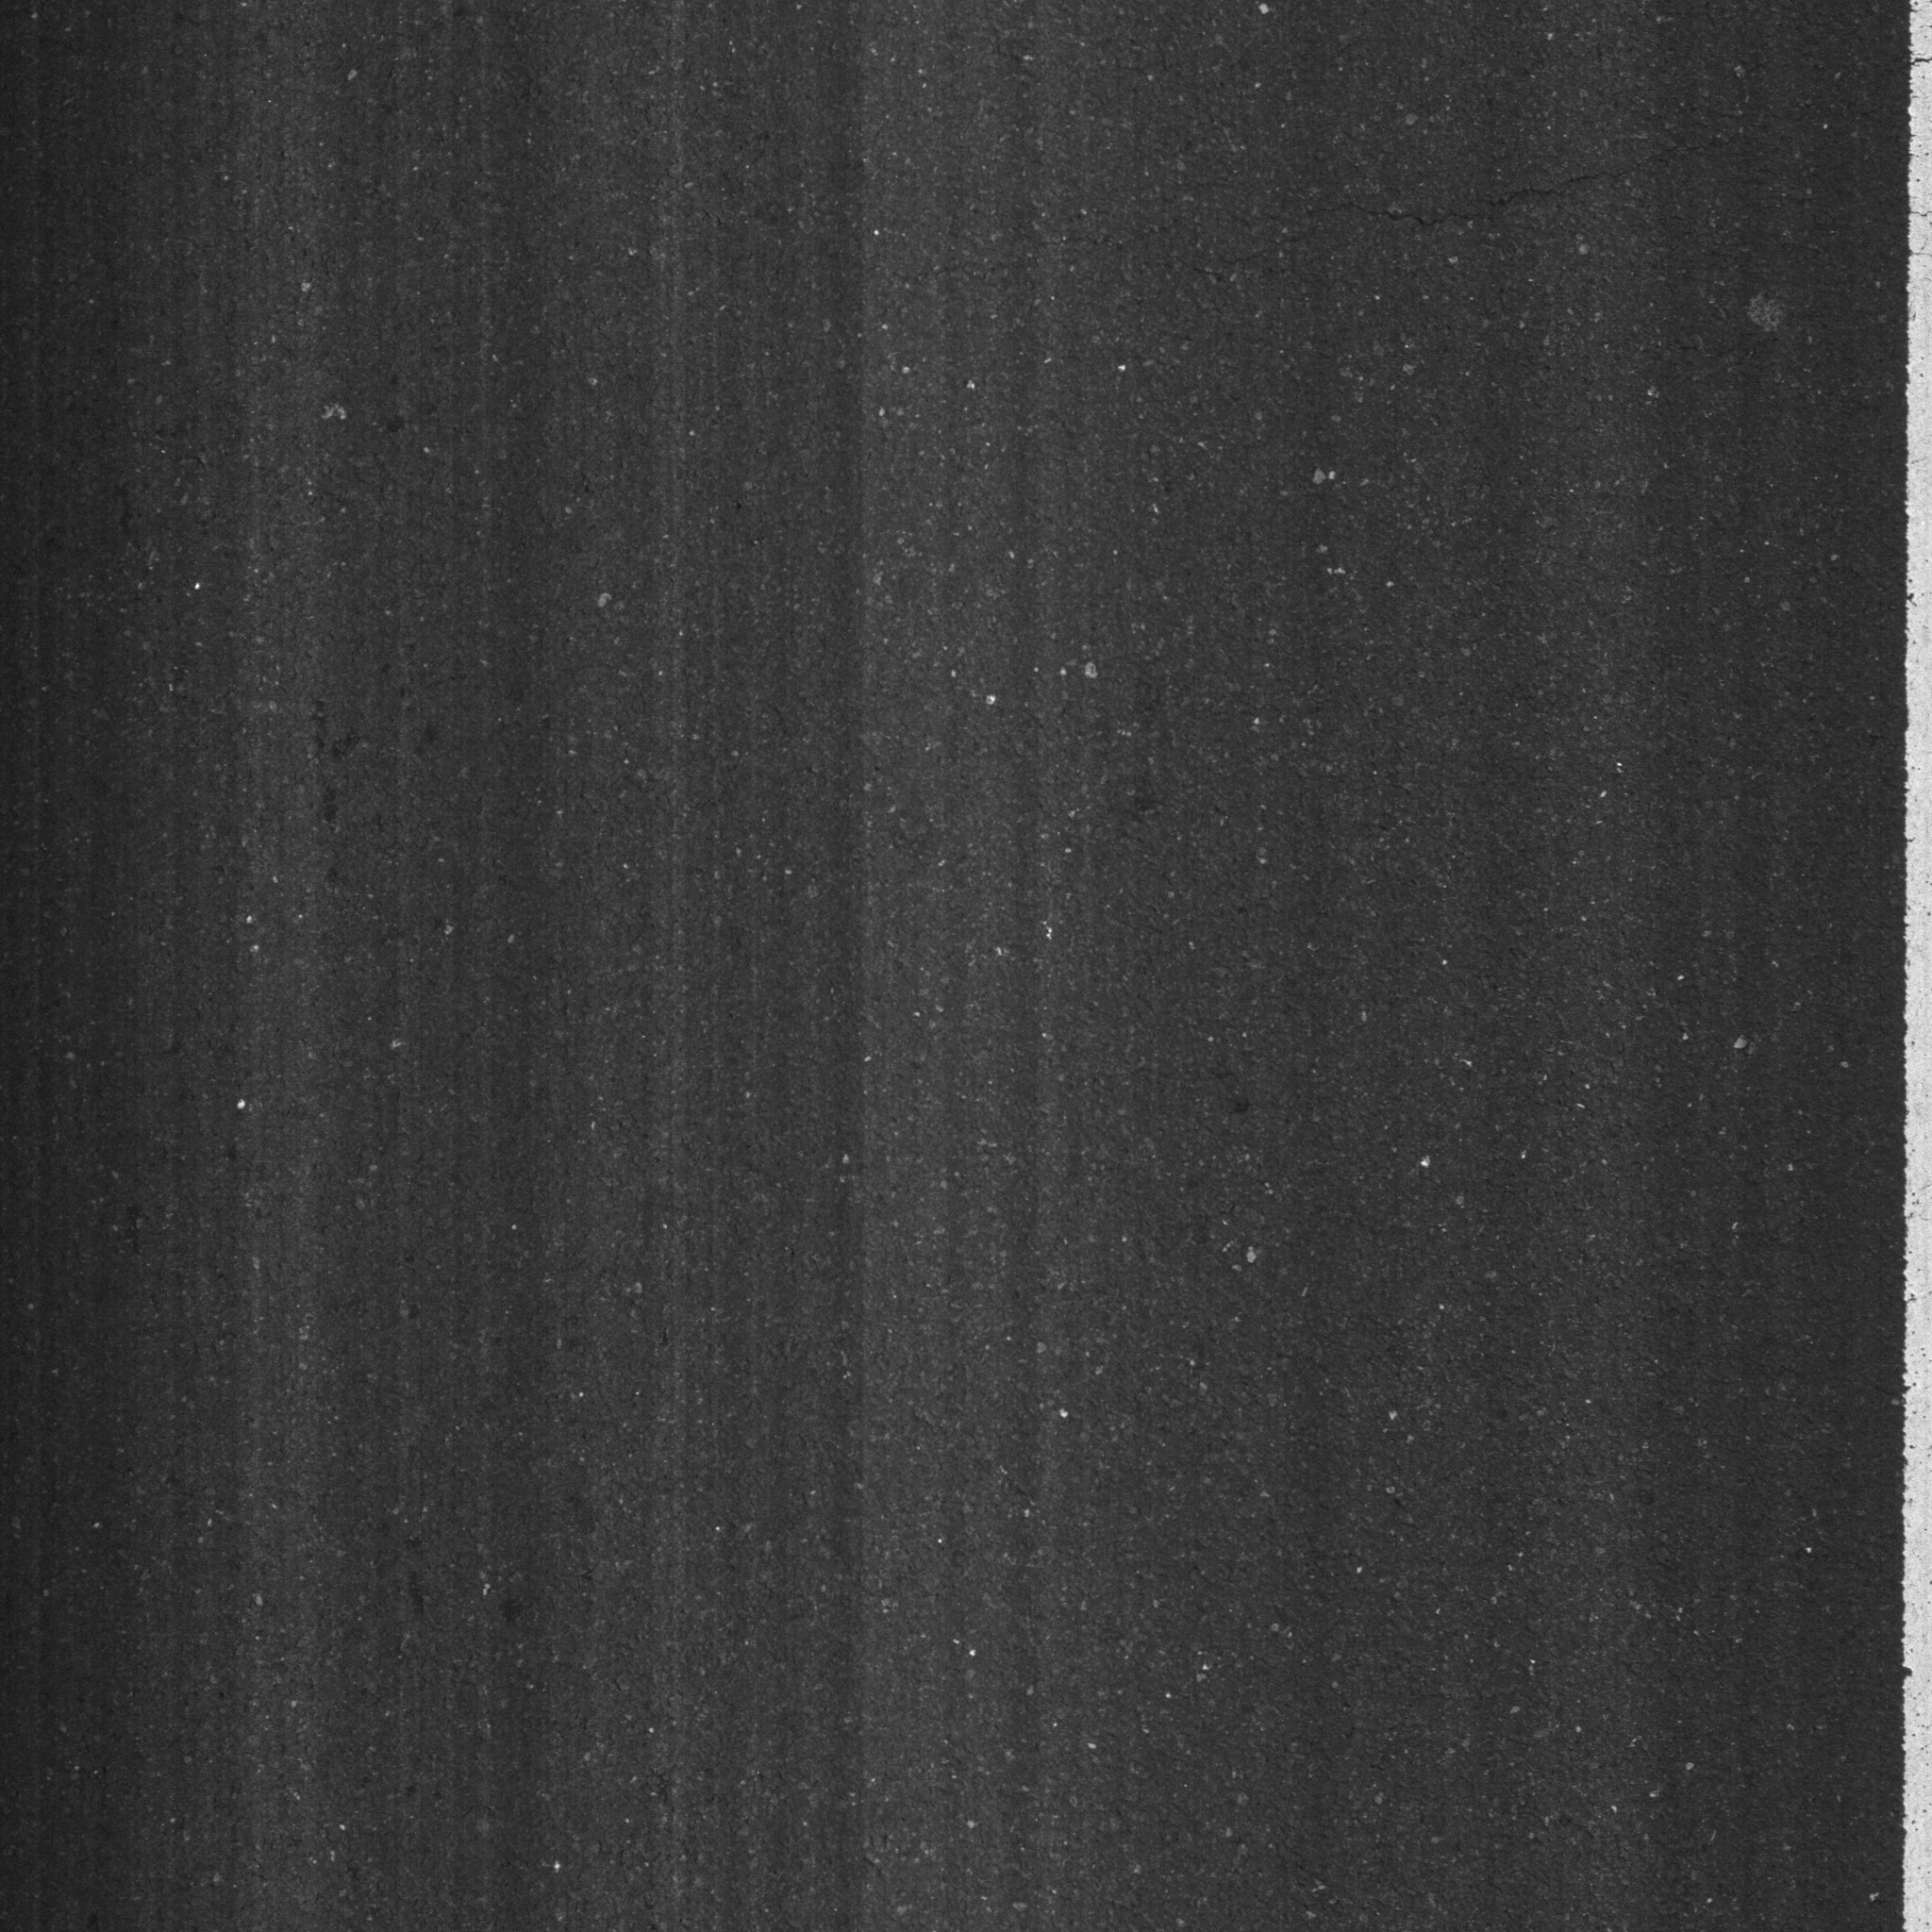transeverse: (1302, 131, 1700, 235)
